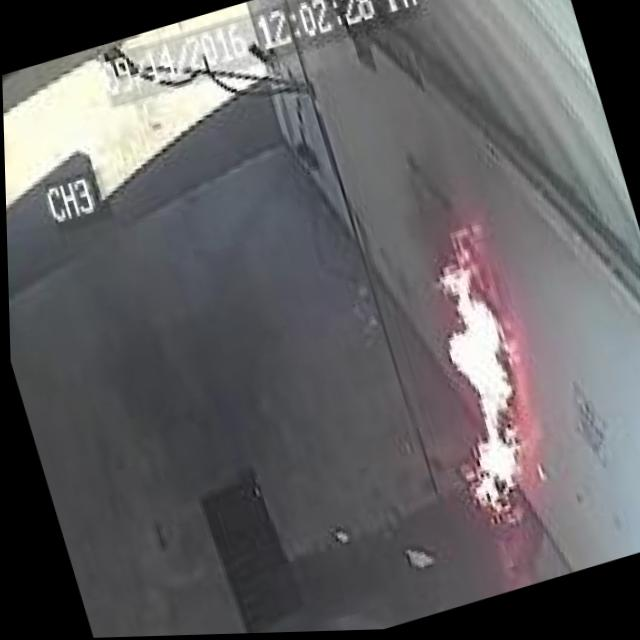fire: (384, 215, 569, 535)
